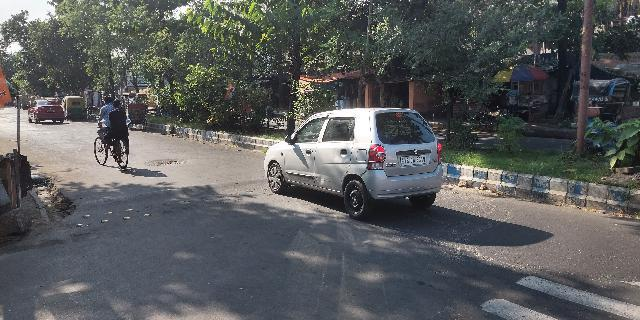Autorickshaw: (60, 93, 89, 124)
Car: (259, 104, 446, 224), (26, 96, 66, 128)
Cycle: (89, 92, 133, 174)
